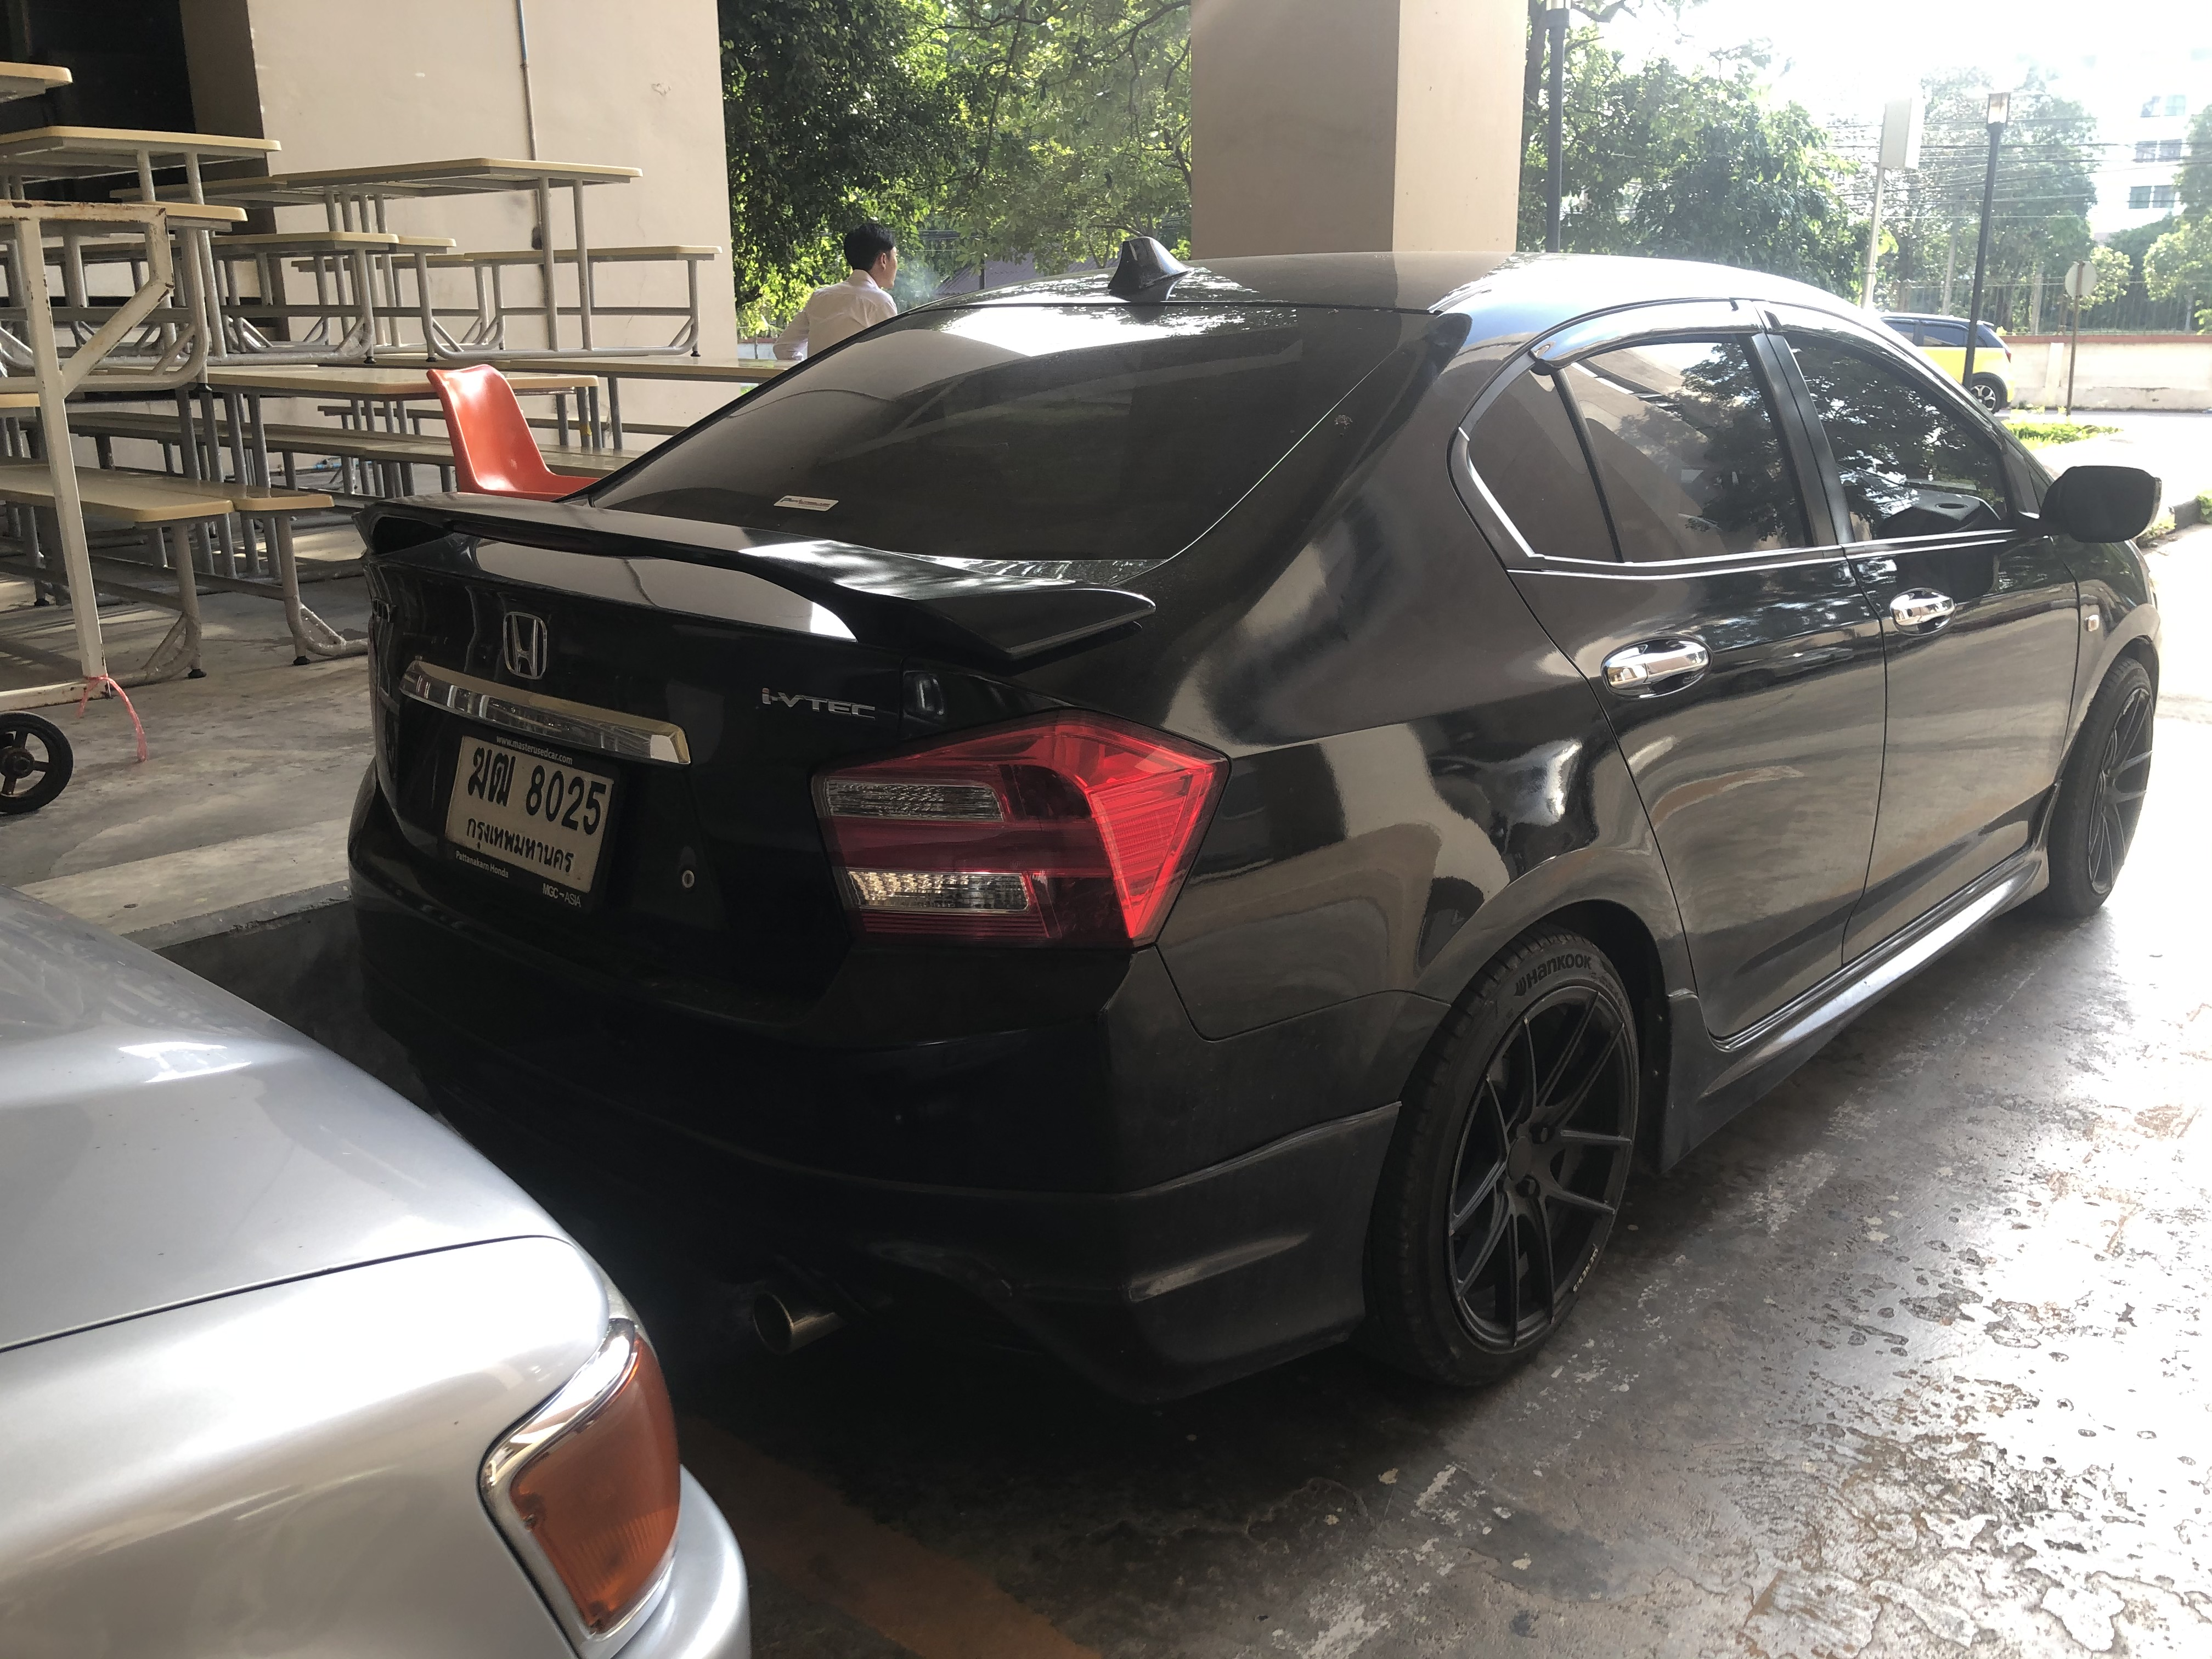in: (444, 737, 613, 896)
out: (432, 728, 625, 913)
